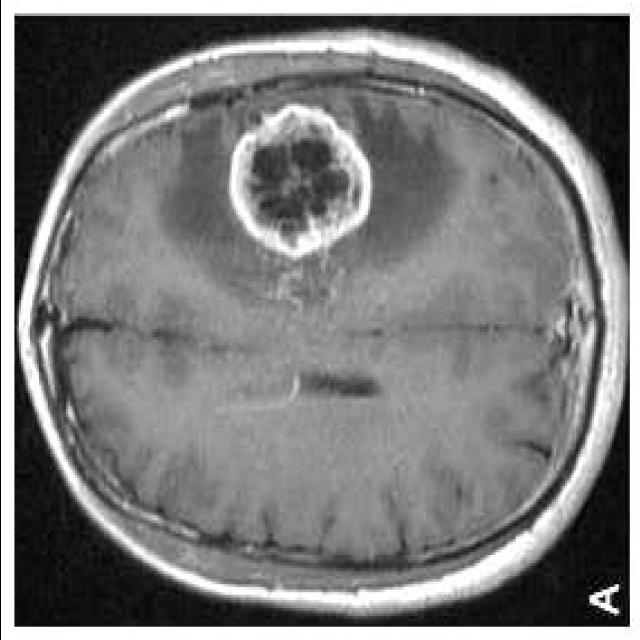tumor: (224, 106, 369, 260)
